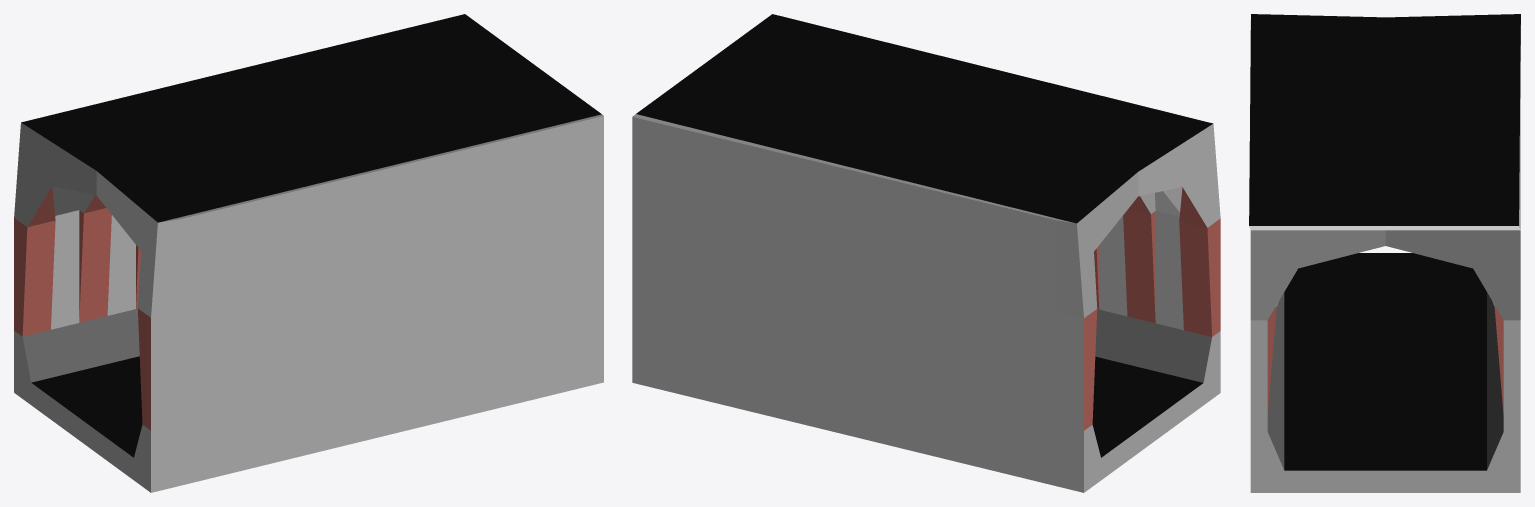
3 renders of one model, left to right at view 1: azimuth 30°, elevation 25°; view 2: azimuth 150°, elevation 25°; view 3: azimuth 270°, elevation 25°, orthographic.
Parts seen in each view (by area): view 1: Cube; view 2: Cube; view 3: Cube.
Boxes of the visible parts, box(x1,y1,x2,y2) form: Cube: box(14, 14, 603, 492); Cube: box(632, 14, 1220, 492); Cube: box(1249, 14, 1520, 492).
Size of the model in its own units: 840 by 478 by 443.
